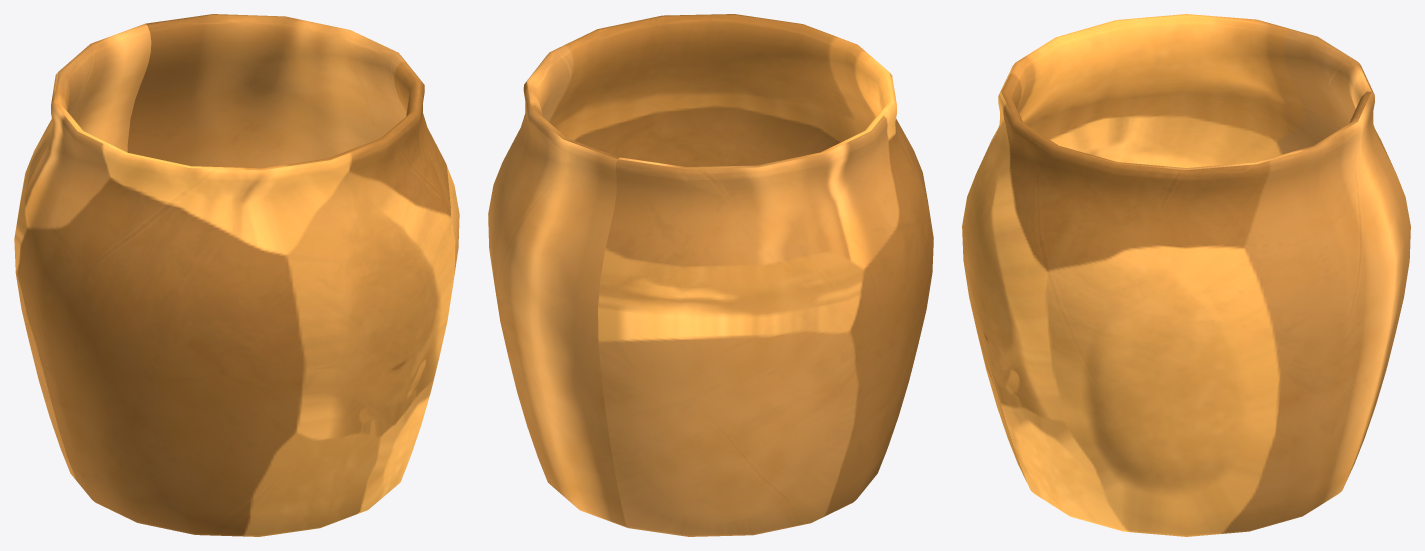
Rendered from SM_Stylized_Bowl_C.fbx.
The picture shows the model from 3 angles, left to right: view 1: azimuth 30°, elevation 25°; view 2: azimuth 150°, elevation 25°; view 3: azimuth 270°, elevation 25°; orthographic projection.
Parts seen in each view (by area): view 1: SM_Stylized_Bowl_C_LOD0; view 2: SM_Stylized_Bowl_C_LOD0; view 3: SM_Stylized_Bowl_C_LOD0.
Part boxes in pixels (box(x1,y1,x2,y2)): SM_Stylized_Bowl_C_LOD0: box(14, 14, 459, 536); SM_Stylized_Bowl_C_LOD0: box(488, 14, 933, 536); SM_Stylized_Bowl_C_LOD0: box(962, 14, 1410, 536).
Size of the model in its own units: 19.89 by 19.89 by 18.49.
